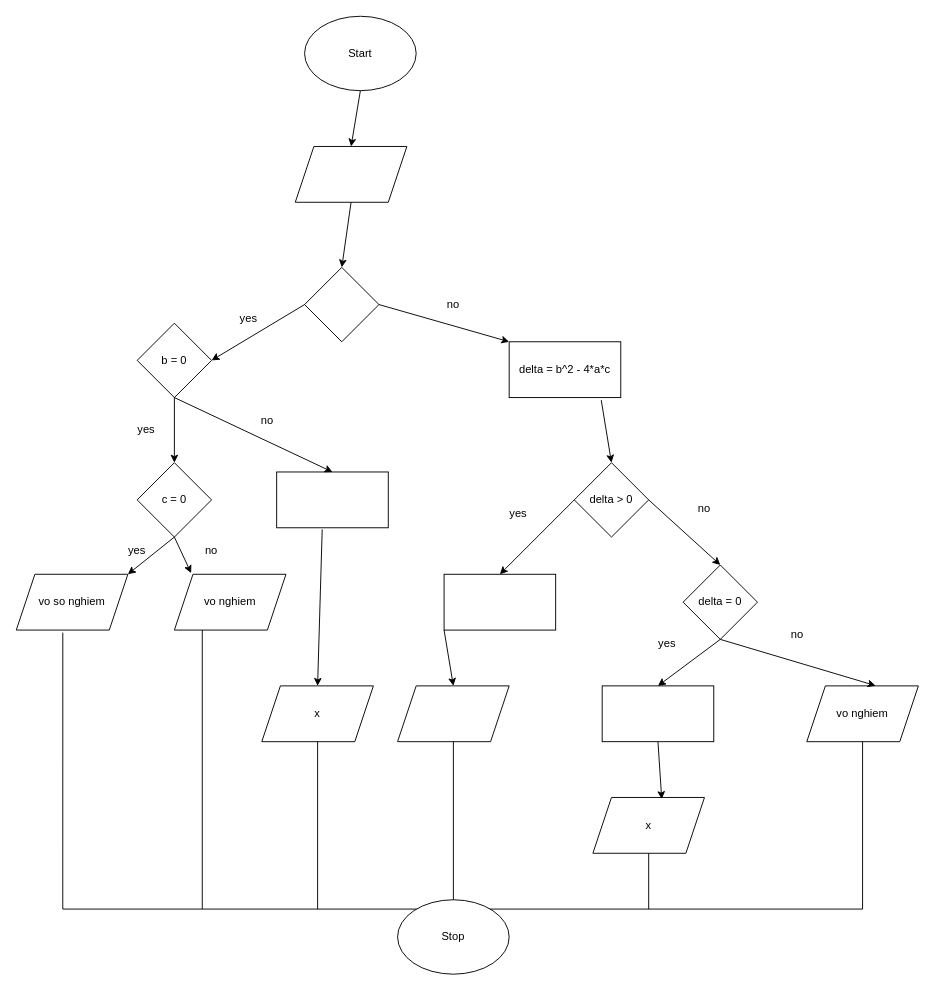
This 935x990 diagram has some shape labels left out. The shapes that lost their labels are listed below. From the top down, each one's box as (x1, y1, x2, y2) in pixels, then its label:
(294, 146, 407, 202): int a, b ,c
(304, 266, 379, 342): a = 0
(276, 471, 388, 528): x = -c/b
(443, 573, 556, 630): x1 = x2 =
(397, 685, 509, 742): x1 , x2
(601, 685, 714, 742): -b / (2a)
